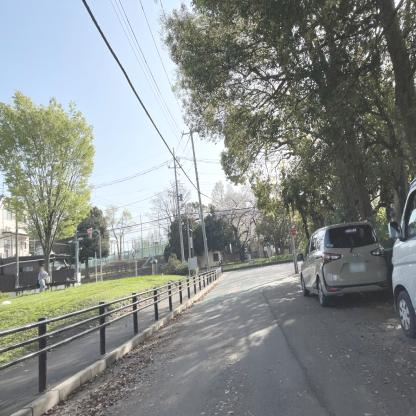Someiyoshino: (206, 172, 264, 240)
